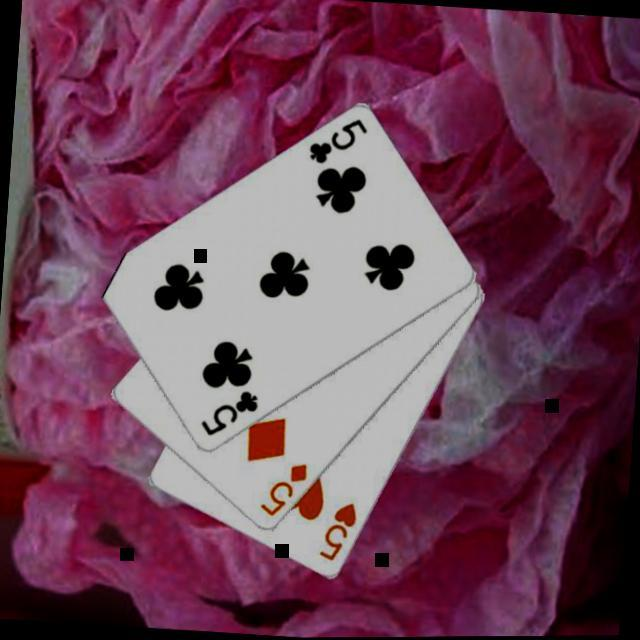5C: (194, 386, 260, 444), (304, 114, 369, 172)
5D: (255, 459, 310, 524)
5H: (312, 498, 360, 568)
